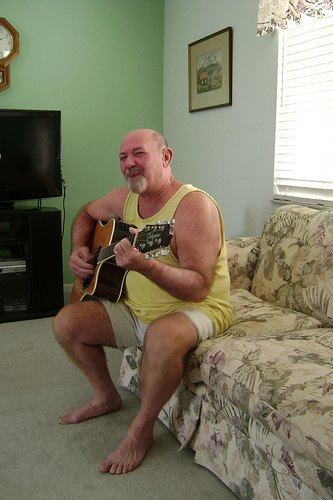guitar: (67, 217, 175, 307)
